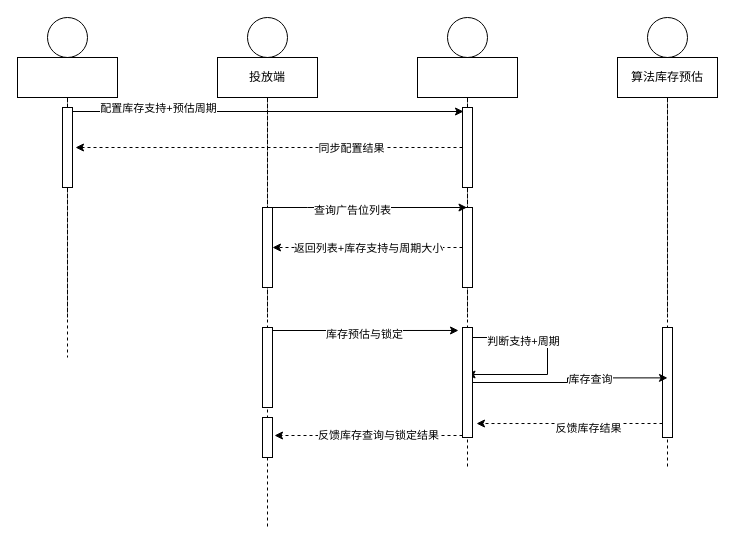
Some shapes in this 735 by 545 pixel diagram are drawn without their labels. Each missing label, with the box of its shape:
后端serving: (416, 56, 518, 468)
管理端: (16, 56, 118, 358)
